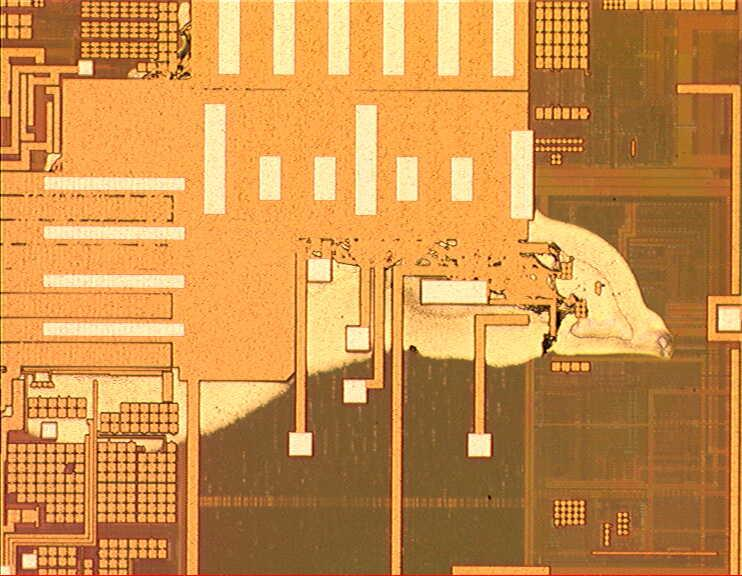BLOCK ETCH: (1, 2, 678, 460)
